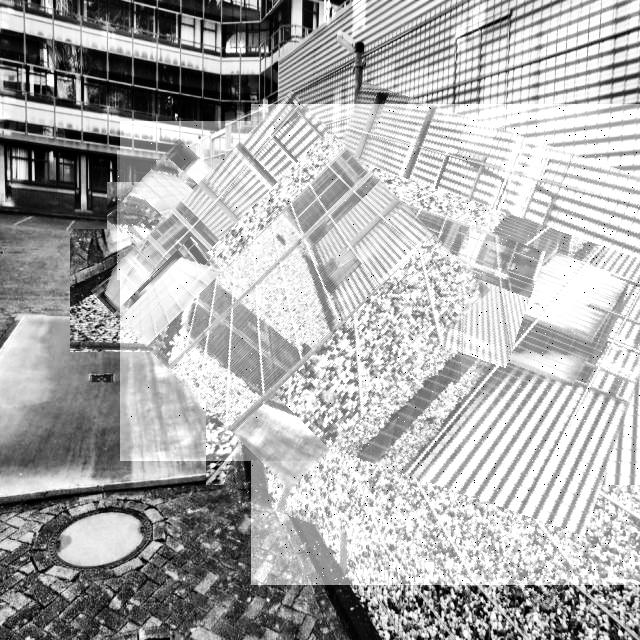fences: (251, 104, 640, 585), (120, 121, 461, 461), (117, 150, 247, 280)
